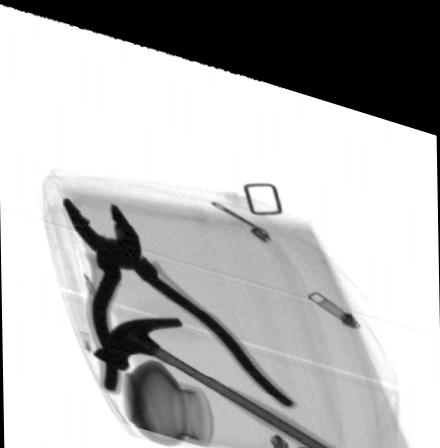Hammer: (91, 308, 380, 448)
Pliers: (62, 194, 298, 392)
